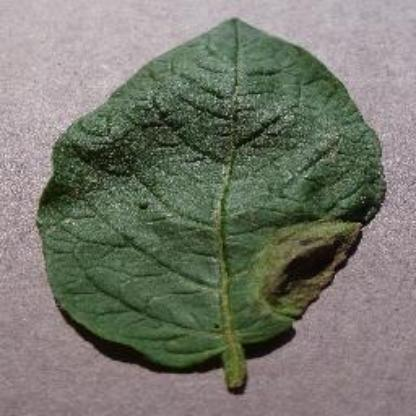Late-Blight: (36, 13, 388, 390)
